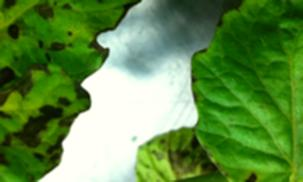Tomato leaf bacterial spot: (0, 0, 188, 182), (179, 0, 303, 182)
